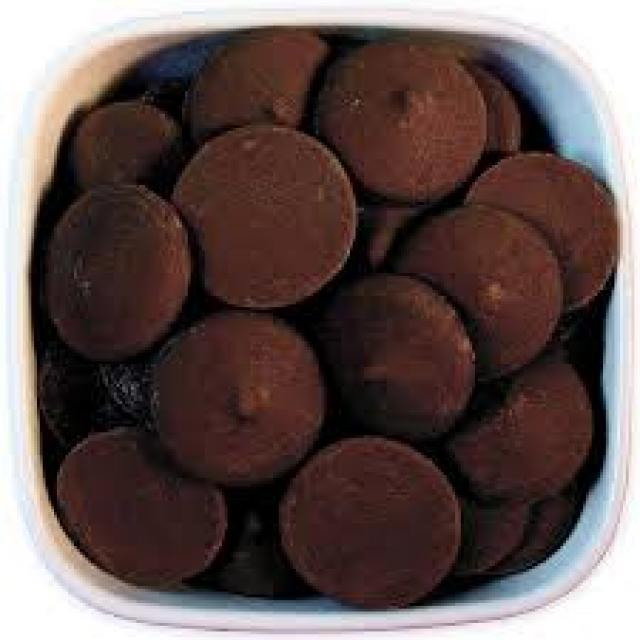Chocolate: (40, 30, 620, 613)
